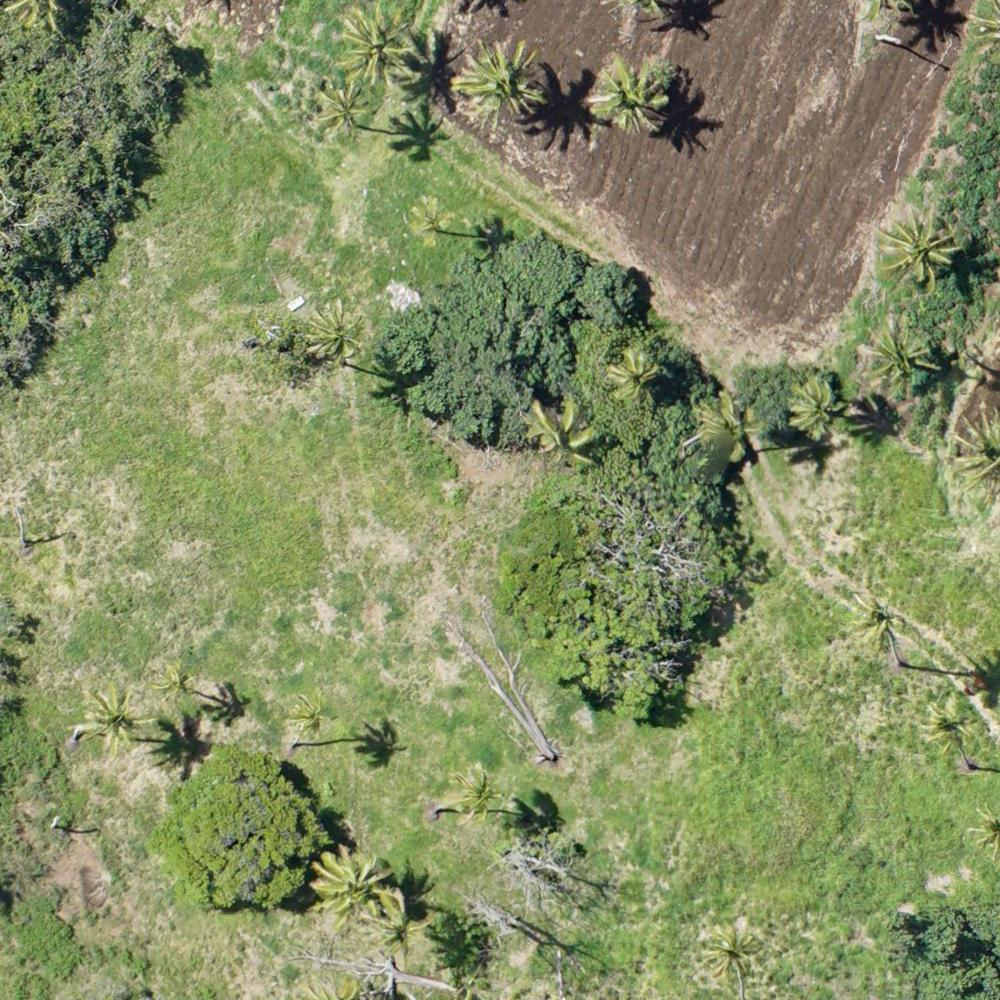Palm: (871, 208, 970, 289), (458, 38, 546, 122), (314, 844, 395, 924), (333, 8, 417, 81), (592, 54, 670, 130), (522, 399, 595, 475), (858, 323, 934, 396), (76, 683, 149, 754), (786, 375, 845, 441), (608, 346, 670, 407), (308, 298, 369, 359), (315, 80, 375, 141), (850, 590, 908, 648), (921, 693, 978, 752), (699, 924, 762, 977), (399, 190, 456, 244), (451, 761, 501, 818), (284, 688, 334, 740), (151, 662, 192, 707)
